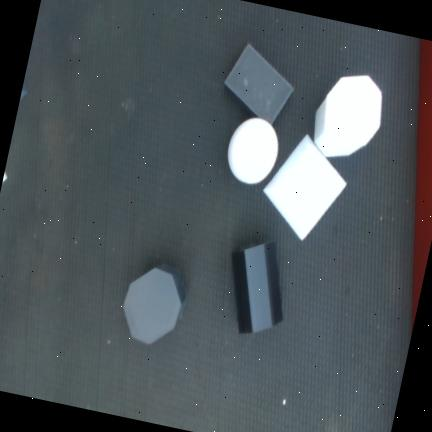Esfera: (227, 118, 278, 184)
Paralelepipedo: (223, 43, 294, 124)
Piramide: (262, 134, 347, 242)
Prisma_hexagonal: (313, 75, 382, 157), (122, 264, 187, 346), (231, 240, 283, 334)
